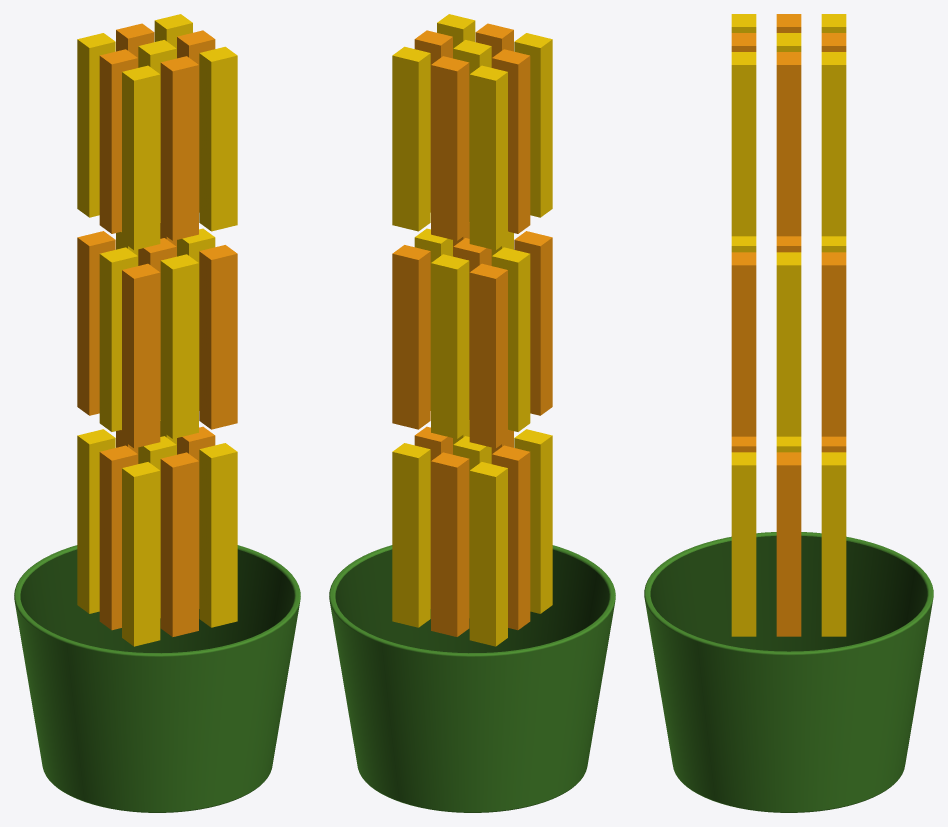
The model's file is TestJed.fbx.
The picture shows the model from 3 angles, left to right: view 1: azimuth 30°, elevation 25°; view 2: azimuth 150°, elevation 25°; view 3: azimuth 270°, elevation 25°; orthographic projection.
Visible parts, largest first — view 1: Cylinder, Cube_3, Cube_1_4, Cube_5, Cube_1_8, Cube_1_2, Cube_1_6, Cube_1, Cube_7, Cube_1_0, Cube_1_18, Cube_1_24 (+12 smaller); view 2: Cylinder, Cube_21, Cube_1_22, Cube_23, Cube_1_26, Cube_1_20, Cube_1_24, Cube_19, Cube_25, Cube_1_18, Cube_1_0, Cube_1_6 (+12 smaller); view 3: Cylinder, Cube_1_2, Cube_5, Cube_11, Cube_1_14, Cube_1_20, Cube_23, Cube_1_8, Cube_17, Cube_1_26.
Boxes of the visible parts, bbox=[...] form: Cylinder: bbox=[14, 545, 300, 812]; Cube_3: bbox=[122, 263, 160, 448]; Cube_1_4: bbox=[160, 254, 198, 438]; Cube_5: bbox=[199, 245, 237, 429]; Cube_1_8: bbox=[199, 46, 237, 231]; Cube_1_2: bbox=[199, 443, 237, 627]; Cube_1_6: bbox=[122, 65, 160, 250]; Cube_1: bbox=[160, 452, 198, 636]; Cube_7: bbox=[160, 56, 198, 240]; Cube_1_0: bbox=[122, 462, 160, 646]; Cube_1_18: bbox=[77, 429, 115, 613]; Cube_1_24: bbox=[77, 33, 115, 217]; Cylinder: bbox=[329, 545, 615, 812]; Cube_21: bbox=[469, 263, 507, 448]; Cube_1_22: bbox=[431, 254, 469, 438]; Cube_23: bbox=[392, 245, 430, 429]; Cube_1_26: bbox=[392, 46, 430, 231]; Cube_1_20: bbox=[392, 443, 430, 627]; Cube_1_24: bbox=[469, 65, 507, 250]; Cube_19: bbox=[431, 452, 469, 636]; Cube_25: bbox=[431, 56, 469, 240]; Cube_1_18: bbox=[469, 462, 507, 646]; Cube_1_0: bbox=[514, 429, 552, 613]; Cube_1_6: bbox=[514, 33, 552, 217]; Cylinder: bbox=[644, 532, 933, 812]; Cube_1_2: bbox=[731, 452, 756, 636]; Cube_5: bbox=[731, 252, 756, 436]; Cube_11: bbox=[776, 452, 801, 636]; Cube_1_14: bbox=[776, 252, 801, 436]; Cube_1_20: bbox=[821, 452, 846, 636]; Cube_23: bbox=[821, 252, 846, 436]; Cube_1_8: bbox=[731, 52, 756, 236]; Cube_17: bbox=[776, 52, 801, 236]; Cube_1_26: bbox=[821, 52, 846, 236].
Size of the model in its own units: 225 by 621 by 225.
